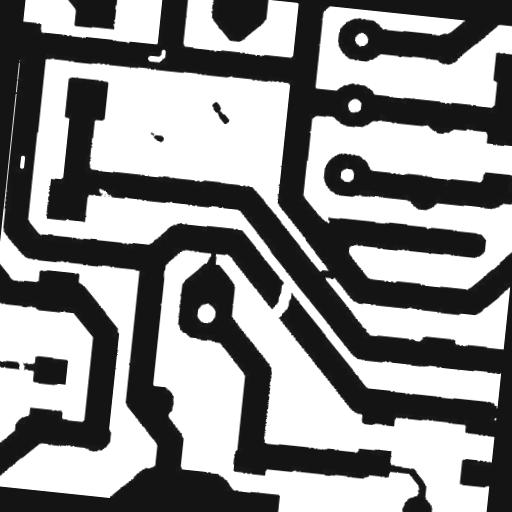copper: (202, 93, 239, 132), (142, 124, 172, 150)
mousebite: (89, 180, 120, 207), (311, 206, 338, 232)
open: (262, 272, 300, 328), (8, 348, 34, 378)
pin-hole: (139, 40, 174, 71), (11, 147, 33, 177)
short: (198, 243, 225, 276), (310, 262, 344, 288)
